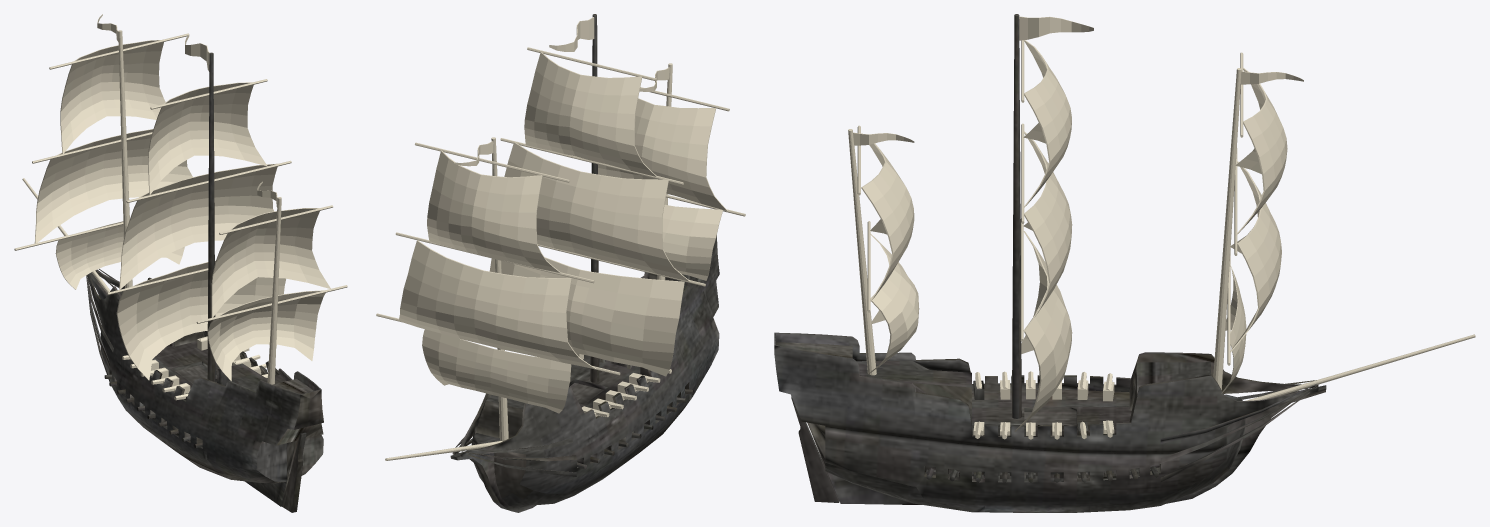
The model's file is ship-warship.glb.
3 views of the same model, side by side, from view 1: azimuth 30°, elevation 25°; view 2: azimuth 150°, elevation 25°; view 3: azimuth 270°, elevation 25° (orthographic). The views are drawn at different scales.
Parts seen in each view (by area): view 1: Ship_static; view 2: Ship_static; view 3: Ship_static.
Boxes of the visible parts, x1=… form: Ship_static: x1=14, y1=14, x2=347, y2=512; Ship_static: x1=376, y1=14, x2=745, y2=512; Ship_static: x1=774, y1=14, x2=1475, y2=512.
Bounding box in the file's own units: 22.87 × 40.06 × 52.07.
2 materials, 1 textured.
